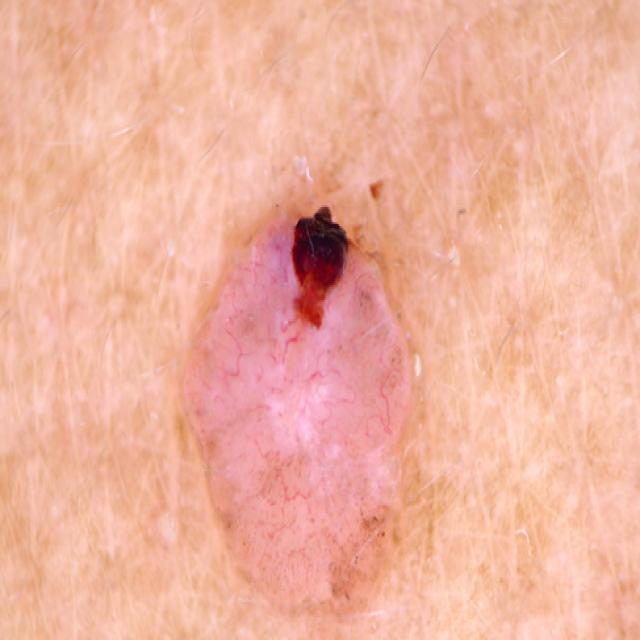Carcinoma: (163, 196, 461, 623)
